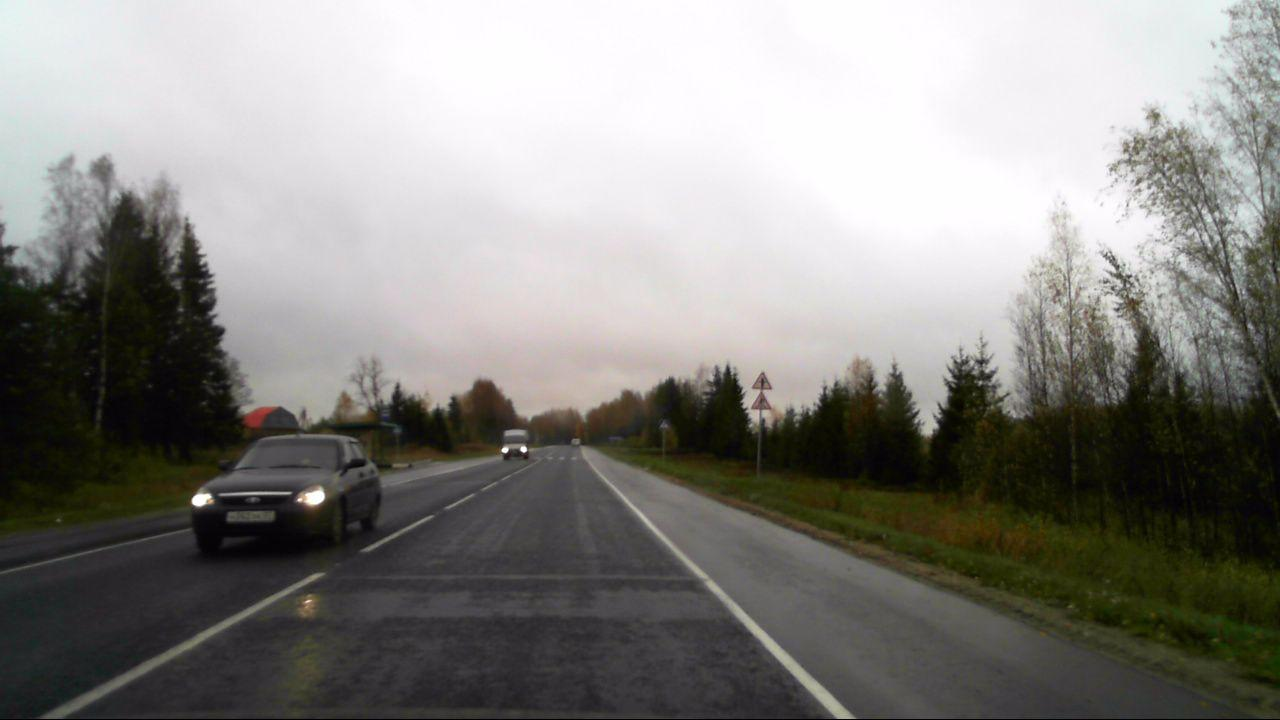road_sign: (747, 389, 777, 412), (749, 369, 776, 391)
